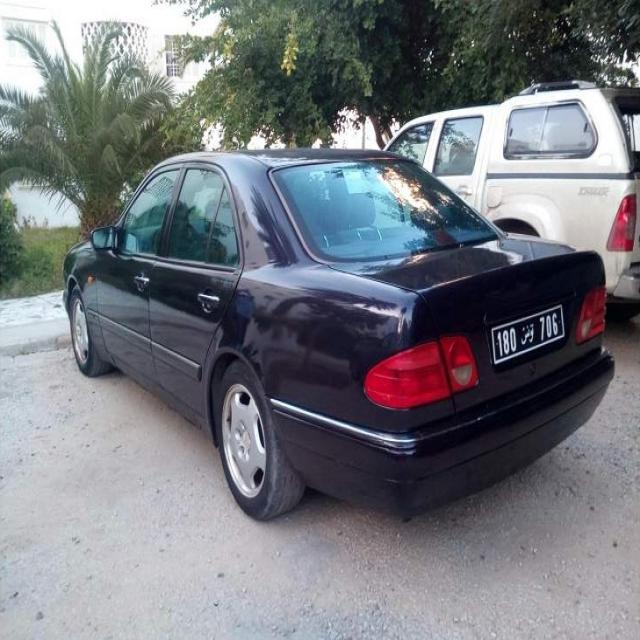licence plate: (494, 307, 562, 360)
